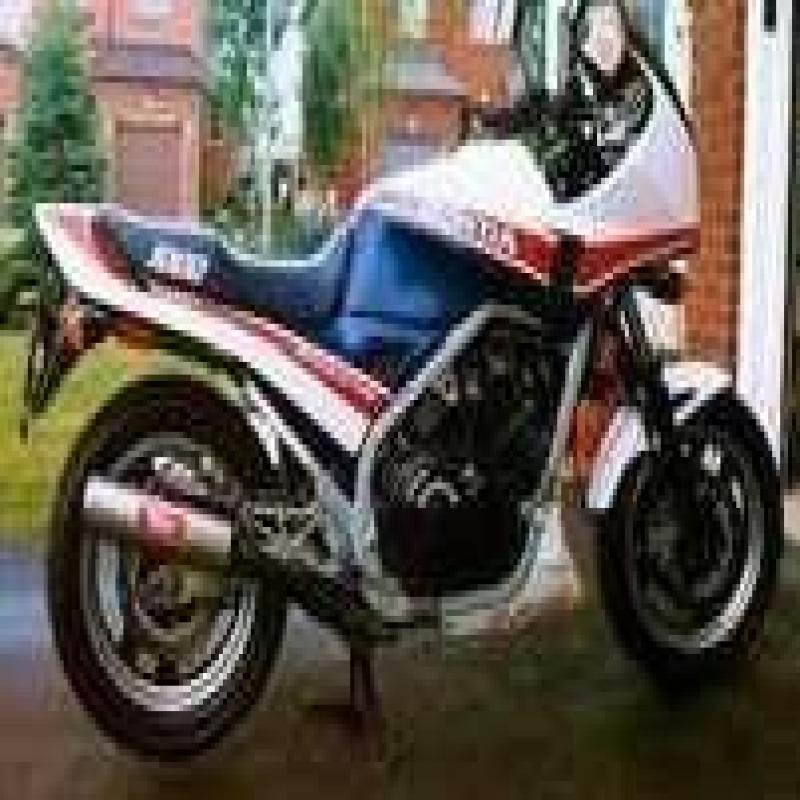bike: (19, 0, 784, 800)
